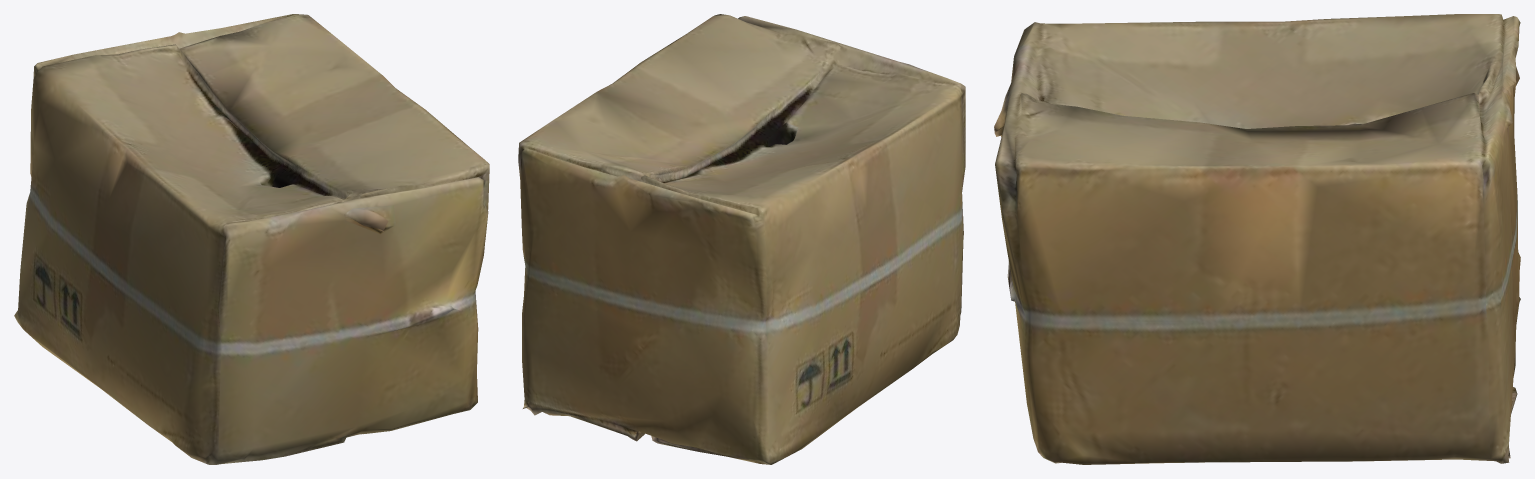
The model's file is cardboard_box.glb.
3 renders of one model, left to right at view 1: azimuth 30°, elevation 25°; view 2: azimuth 150°, elevation 25°; view 3: azimuth 270°, elevation 25°, orthographic. The views are drawn at different scales.
Visible parts, largest first — view 1: cardboard_box; view 2: cardboard_box; view 3: cardboard_box.
Part boxes in pixels (x1,y1,x2,y2): cardboard_box: [14, 14, 489, 464]; cardboard_box: [518, 14, 965, 464]; cardboard_box: [994, 14, 1520, 464].
Size of the model in its own units: 0.385 by 0.3407 by 0.5159.
Materials: 1 (1 with a texture image).
